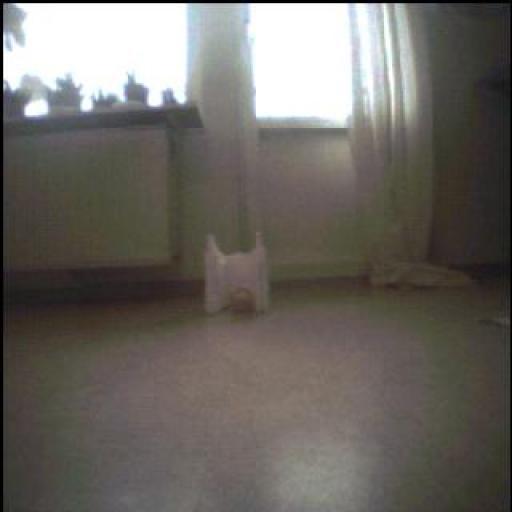Basket: (228, 288, 257, 316)
